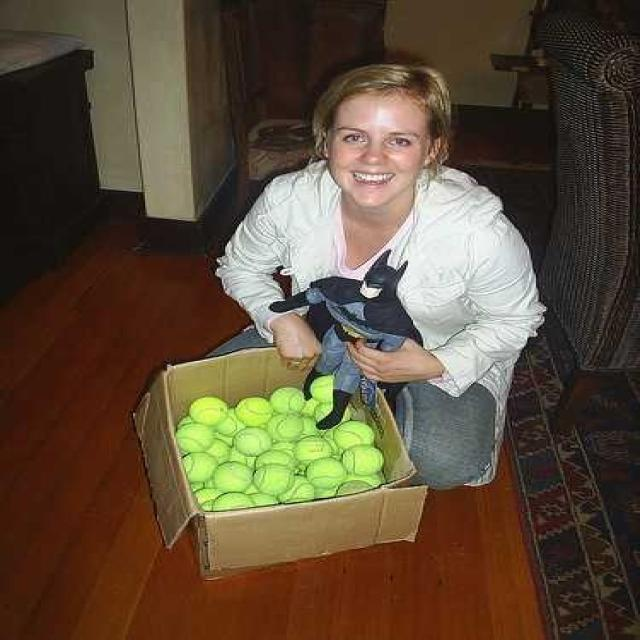Tennis_Ball: (213, 459, 256, 488), (179, 453, 220, 481), (306, 458, 346, 485), (344, 448, 380, 476), (238, 396, 271, 426), (188, 396, 226, 422), (254, 464, 289, 492), (335, 420, 372, 446), (278, 478, 312, 505), (270, 414, 304, 440), (177, 425, 212, 449), (294, 437, 328, 460), (236, 429, 266, 455), (271, 388, 303, 410), (256, 451, 296, 468), (219, 408, 244, 432), (217, 492, 250, 510), (318, 404, 347, 423), (311, 377, 333, 399), (210, 440, 232, 460), (195, 489, 219, 500)
